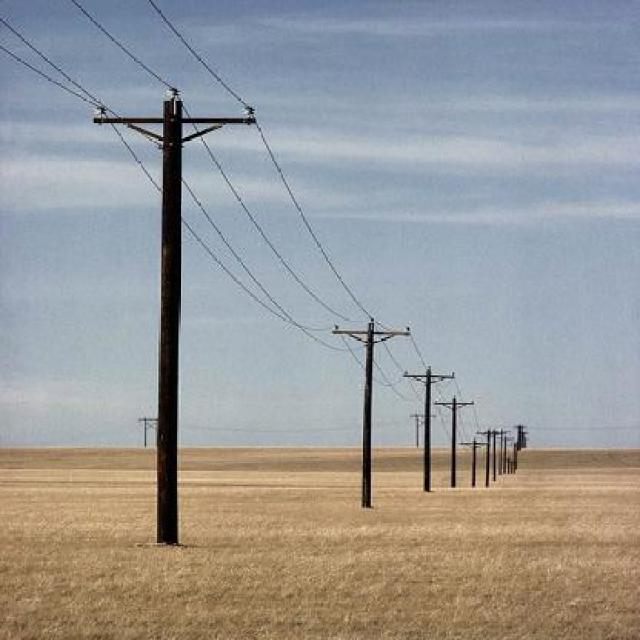pole: (88, 71, 258, 546), (334, 305, 400, 512), (409, 355, 471, 491)
